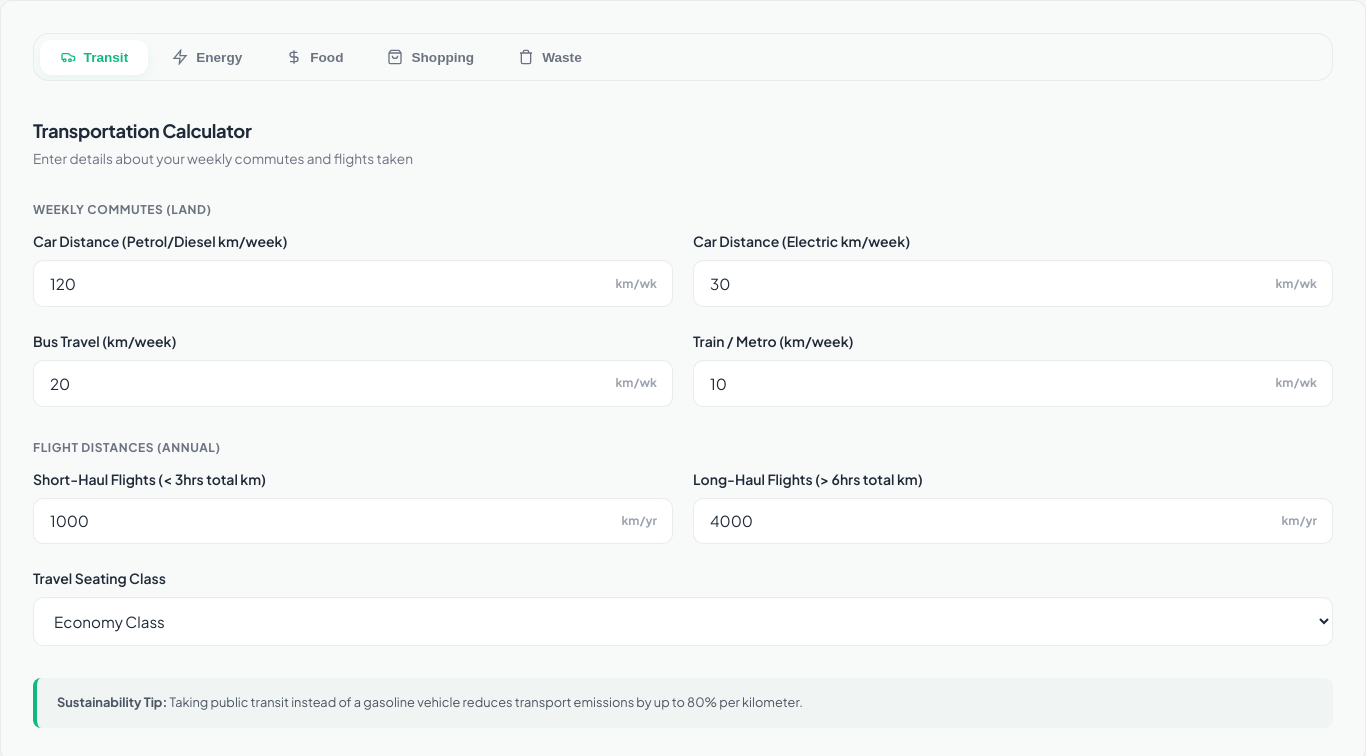
Calculator component › switches to Shopping tab on click
Click the button with aria-label "Switch to Shopping tab": point(431, 57) [368, 40, 494, 75]
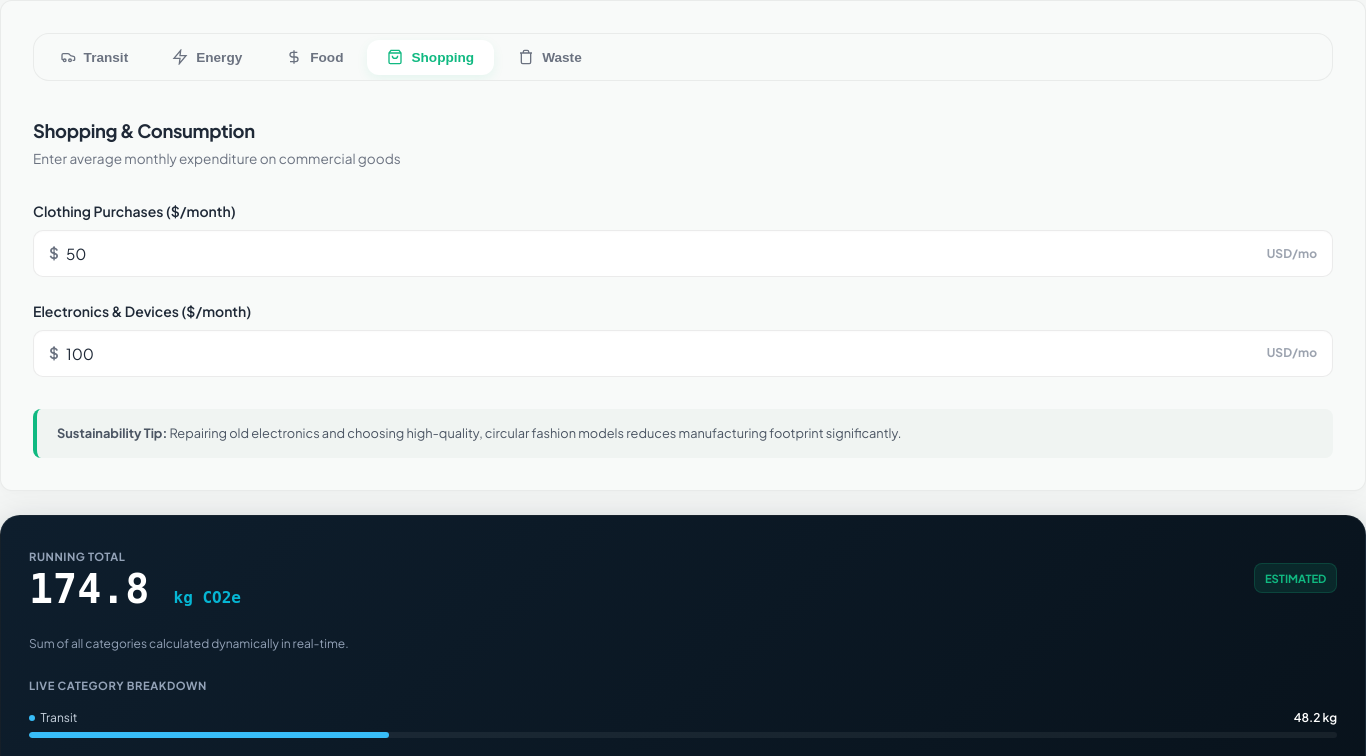
Result: the heading "Shopping & Consumption" is shown at [33, 119, 255, 142]
